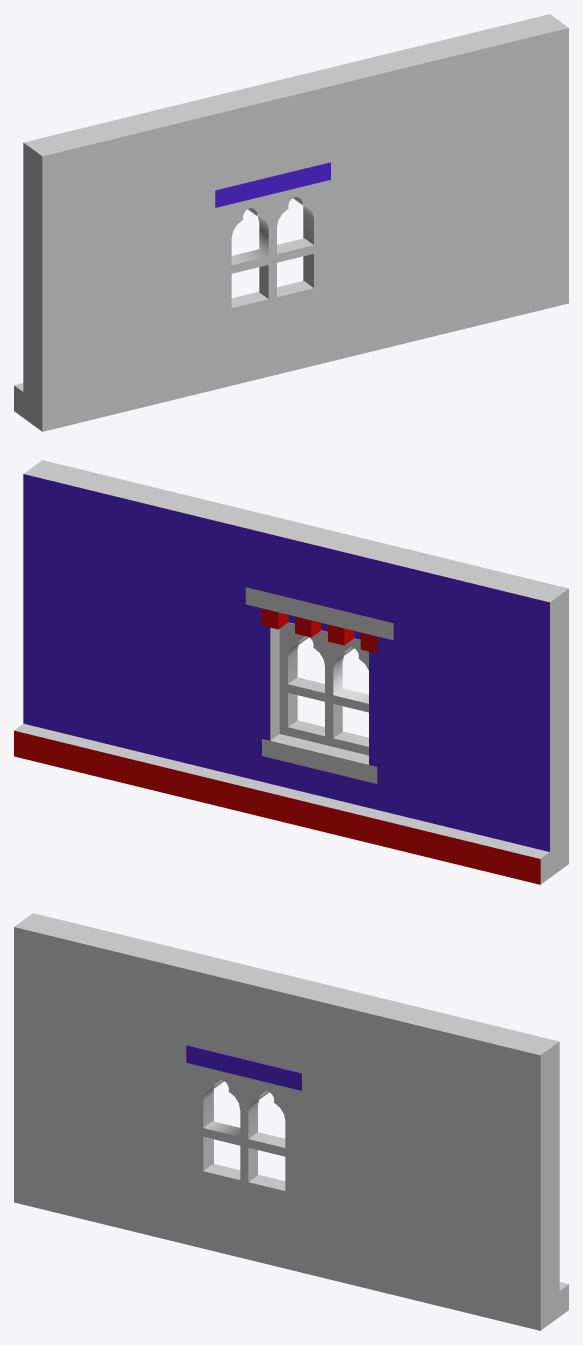
The model's file is SM_WindowSmall_a.fbx.
The picture shows the model from 3 angles, top to bottom: view 1: azimuth 30°, elevation 25°; view 2: azimuth 150°, elevation 25°; view 3: azimuth 330°, elevation 25°; orthographic projection.
Parts seen in each view (by area): view 1: WindowSmall_a; view 2: WindowSmall_a; view 3: WindowSmall_a.
Boxes of the visible parts, x1,y1,x2,y2 form: WindowSmall_a: (14, 14, 568, 431); WindowSmall_a: (14, 460, 568, 884); WindowSmall_a: (14, 913, 568, 1330).
Size of the model in its own units: 800 by 400 by 76.08.
